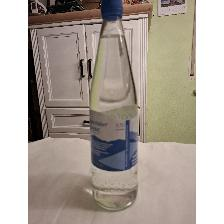Wasser: (88, 1, 138, 214)
